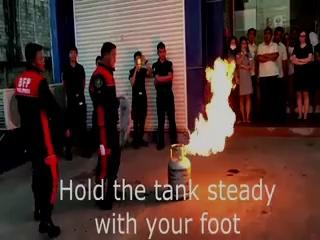Fire: (179, 54, 240, 159)
